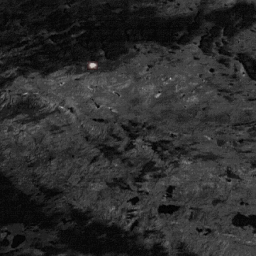Target: (88, 61, 97, 69)
